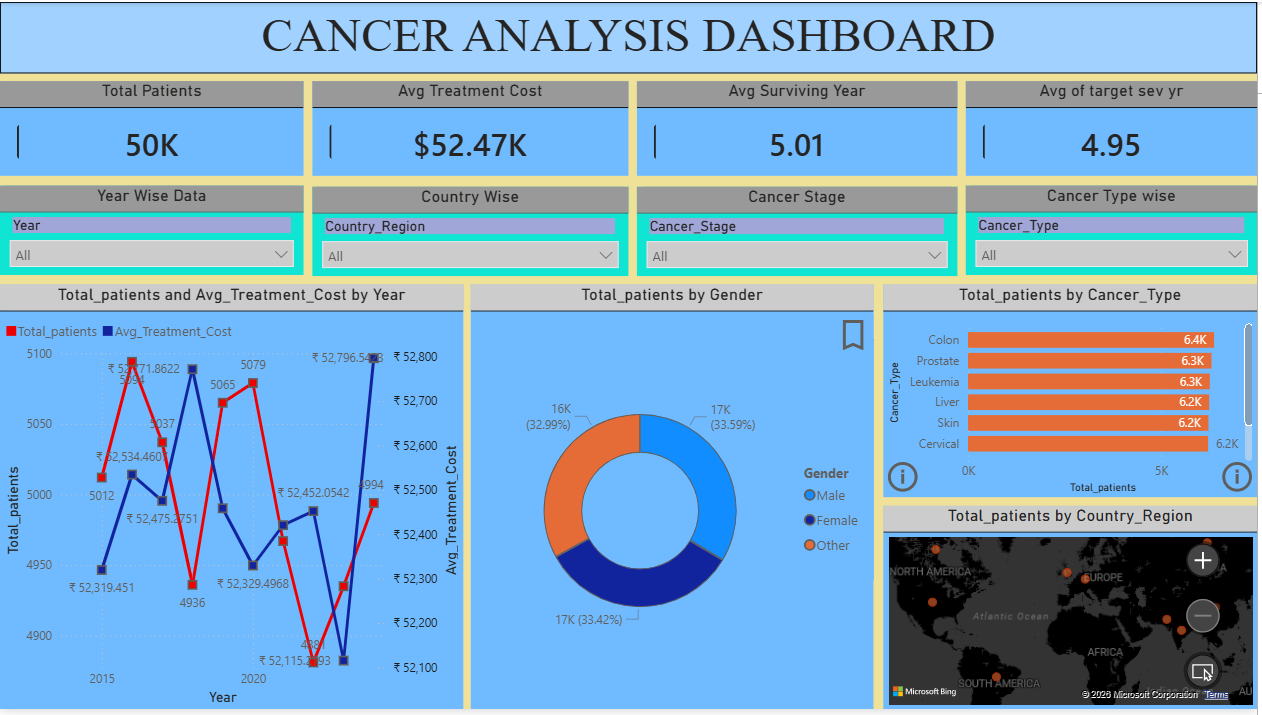

What the dashboard file says about the page in this screenshot:
{"tool":"powerbi","page":{"name":"Page 1","canvas":[1280,720],"ordinal":0},"visuals":[{"type":"cardVisual","title":"Total Patients","fields":{"Data":["Cancer patient Data.Total_patients"]},"box":[0,80.6,309.2,96.3],"z":0},{"type":"cardVisual","title":"Avg Treatment Cost","fields":{"Data":["Cancer patient Data.Avg_Treatment_Cost"]},"box":[318.1,80.6,321.5,96.3],"z":1000},{"type":"cardVisual","title":"Avg Surviving  Year","fields":{"Data":["Cancer patient Data.Average_Survival_Years"]},"box":[648.6,80.6,326,96.3],"z":2000},{"type":"cardVisual","title":"Avg of target sev yr","fields":{"Data":["Avg(Cancer patient Data.Target_Severity_Score)"]},"box":[983.5,80.6,296.8,96.3],"z":3000},{"type":"slicer","title":"Year Wise Data","fields":{"Values":["Cancer patient Data.Year"]},"box":[0,187.1,309.2,90.7],"z":4000},{"type":"slicer","title":"Country Wise","fields":{"Values":["Cancer patient Data.Country_Region"]},"box":[318.1,188.2,321.5,90.7],"z":5000},{"type":"slicer","title":"Cancer Stage","fields":{"Values":["Cancer patient Data.Cancer_Stage"]},"box":[648.6,188.2,326,90.7],"z":6000},{"type":"slicer","title":"Cancer Type wise","fields":{"Values":["Cancer patient Data.Cancer_Type"]},"box":[983.5,187.1,296.8,90.7],"z":7000},{"type":"map","fields":{"Category":["Cancer patient Data.Country_Region"],"Size":["Cancer patient Data.Total_patients"]},"box":[581.4,317,308,271.1],"z":8000},{"type":"lineChart","fields":{"Category":["Cancer patient Data.Year"],"Y":["Cancer patient Data.Total_patients"],"Y2":["Cancer patient Data.Avg_Treatment_Cost"]},"box":[0,287.9,471.6,432.4],"z":9000},{"type":"donutChart","fields":{"Category":["Cancer patient Data.Gender"],"Y":["Cancer patient Data.Total_patients"]},"box":[479.4,287.9,410,432.4],"z":10000},{"type":"barChart","fields":{"Category":["Cancer patient Data.Cancer_Type"],"Y":["Cancer patient Data.Total_patients"]},"box":[899.5,287.9,380.8,216.2],"z":11000},{"type":"actionButton","box":[1240,463.7,40.3,40.3],"z":12000},{"type":"textbox","box":[0,0,1280.3,72.8],"z":13000},{"type":"map","fields":{"Category":["Cancer patient Data.Country_Region"],"Size":["Cancer patient Data.Total_patients"]},"box":[899.5,513,380.8,207.2],"z":14000},{"type":"actionButton","box":[899.5,463.7,41.4,40.3],"z":15000},{"type":"actionButton","box":[849.1,319.2,40.3,40.3],"z":16000}]}

Visuals, with their boxes in screenshot pixels (x1, y1, x2, y2), scaled from the page's 1280x720 canvas onto the 1262x715 screenshot:
"Total Patients" cardVisual: left=0, top=80, right=305, bottom=176
"Avg Treatment Cost" cardVisual: left=314, top=80, right=631, bottom=176
"Avg Surviving  Year" cardVisual: left=639, top=80, right=961, bottom=176
"Avg of target sev yr" cardVisual: left=970, top=80, right=1261, bottom=176
"Year Wise Data" slicer: left=0, top=186, right=305, bottom=276
"Country Wise" slicer: left=314, top=187, right=631, bottom=277
"Cancer Stage" slicer: left=639, top=187, right=961, bottom=277
"Cancer Type wise" slicer: left=970, top=186, right=1261, bottom=276
map - Cancer patient Data.Country_Region x Cancer patient Data.Total_patients: left=573, top=315, right=877, bottom=584
lineChart - Cancer patient Data.Year x Cancer patient Data.Total_patients: left=0, top=286, right=465, bottom=714
donutChart - Cancer patient Data.Gender x Cancer patient Data.Total_patients: left=473, top=286, right=877, bottom=714
barChart - Cancer patient Data.Cancer_Type x Cancer patient Data.Total_patients: left=887, top=286, right=1261, bottom=501
actionButton: left=1223, top=460, right=1261, bottom=500
textbox: left=0, top=0, right=1261, bottom=72
map - Cancer patient Data.Country_Region x Cancer patient Data.Total_patients: left=887, top=509, right=1261, bottom=714
actionButton: left=887, top=460, right=928, bottom=500
actionButton: left=837, top=317, right=877, bottom=357
